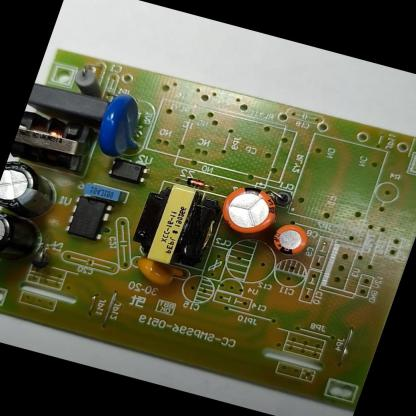Cap1: (214, 176, 286, 240)
Cap2: (268, 219, 314, 259)
Cap3: (0, 158, 63, 220)
Cap4: (0, 206, 47, 268)
MOSFET: (61, 192, 117, 244)
Mov: (91, 89, 155, 162)
Resistor: (68, 64, 110, 98)
Transformer: (124, 174, 227, 274), (9, 103, 102, 173)
